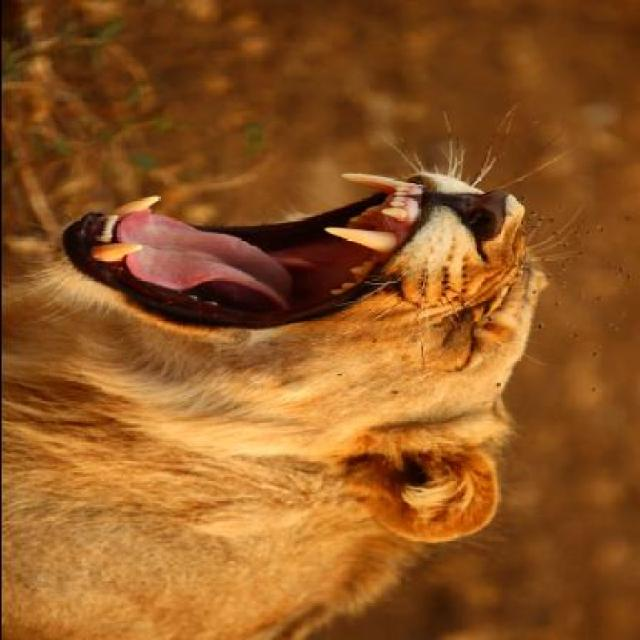Lion: (2, 80, 610, 634)
